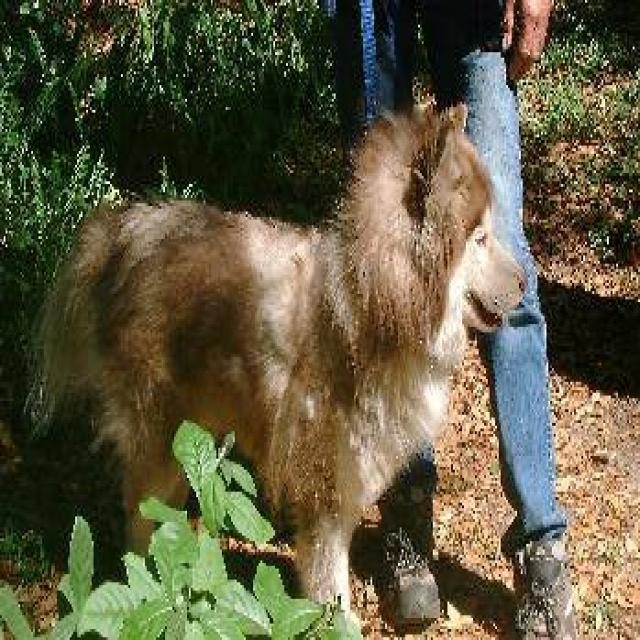dog: (22, 90, 526, 632)
